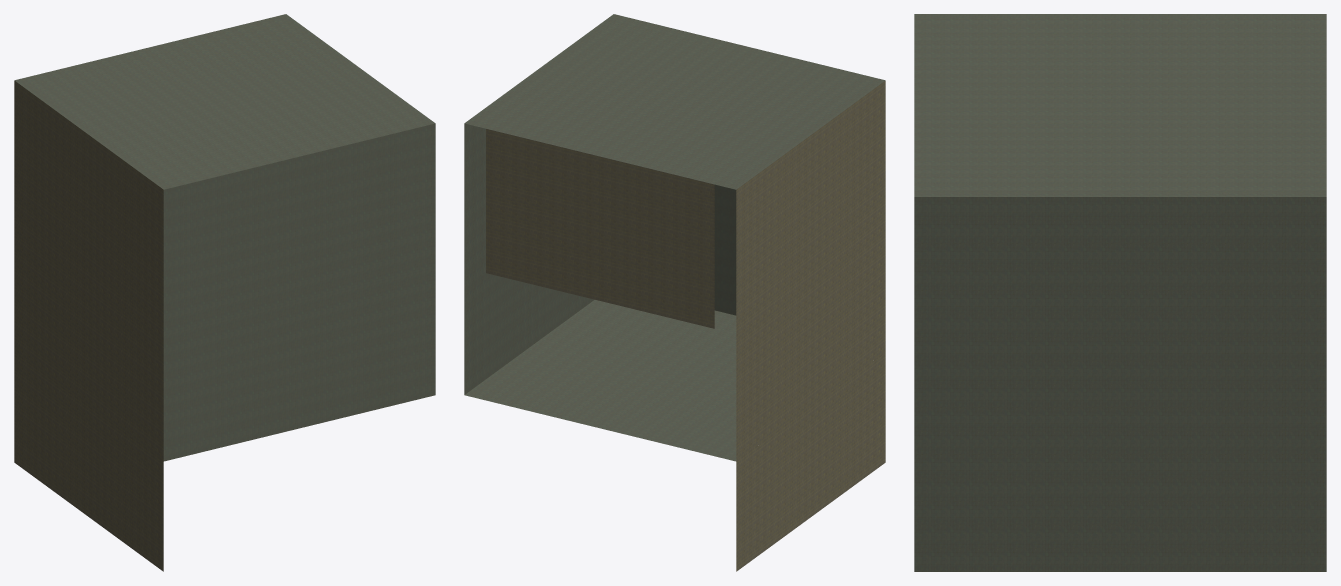
Rendered from Fortress_Cube.fbx.
3 views of the same model, side by side, from view 1: azimuth 30°, elevation 25°; view 2: azimuth 150°, elevation 25°; view 3: azimuth 270°, elevation 25° (orthographic). The views are drawn at different scales.
Parts seen in each view (by area): view 1: Cube_detach_1__1___1_; view 2: Cube_detach_1__1___1_; view 3: Cube_detach_1__1___1_.
Part boxes in pixels (x1,y1,x2,y2): Cube_detach_1__1___1_: [14, 14, 435, 571]; Cube_detach_1__1___1_: [464, 14, 885, 571]; Cube_detach_1__1___1_: [914, 14, 1326, 571].
Size of the model in its own units: 1103 by 1481 by 1050.
